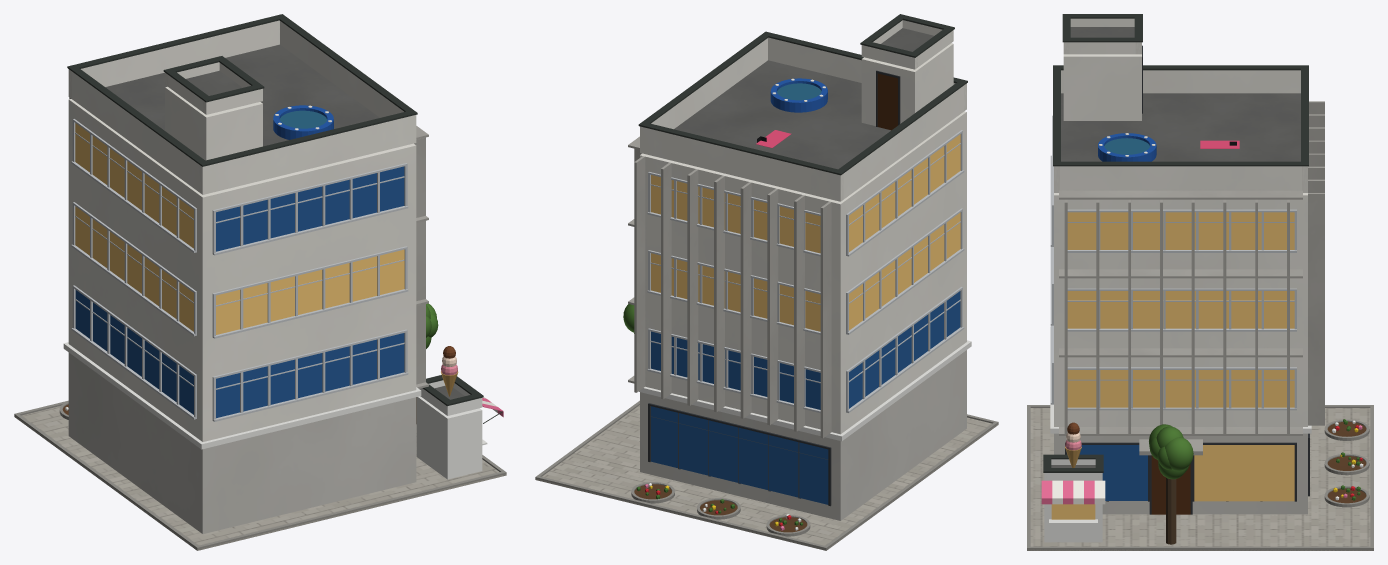
Rendered from dum_0d_kancelare.glb.
3 renders of one model, left to right at view 1: azimuth 30°, elevation 25°; view 2: azimuth 150°, elevation 25°; view 3: azimuth 270°, elevation 25°, orthographic. The views are drawn at different scales.
Parts seen in each view (by area): view 1: dum, noc; view 2: dum, noc; view 3: dum, noc.
Part boxes in pixels (bbox=[...]): dum: bbox=[14, 14, 506, 550]; noc: bbox=[75, 123, 404, 334]; dum: bbox=[535, 14, 998, 550]; noc: bbox=[651, 134, 960, 331]; dum: bbox=[1027, 14, 1373, 550]; noc: bbox=[1051, 212, 1294, 519].
Size of the model in its own units: 12.72 by 16.47 by 12.73.
Materials: 1 (1 with a texture image).
